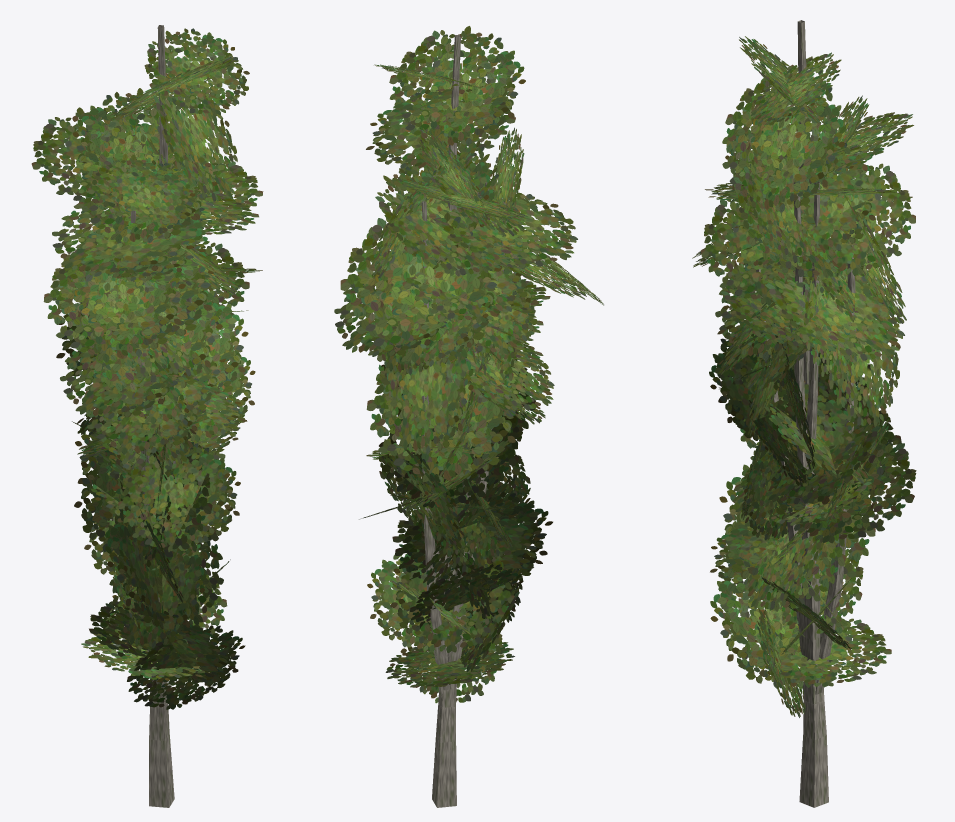
The model's file is Tree_Poplar_1_LOD2.gltf.
The picture shows the model from 3 angles, left to right: view 1: azimuth 30°, elevation 25°; view 2: azimuth 150°, elevation 25°; view 3: azimuth 270°, elevation 25°; orthographic projection. The views are drawn at different scales.
Visible parts, largest first — view 1: Tree_Poplar_1_LOD2; view 2: Tree_Poplar_1_LOD2; view 3: Tree_Poplar_1_LOD2.
Part boxes in pixels (left/top/right/bottom): Tree_Poplar_1_LOD2: left=31, top=25, right=263, bottom=807; Tree_Poplar_1_LOD2: left=334, top=26, right=603, bottom=807; Tree_Poplar_1_LOD2: left=692, top=20, right=916, bottom=807.
Size of the model in its own units: 8.82 by 23.75 by 7.81.
Materials: 2 (2 with a texture image).
